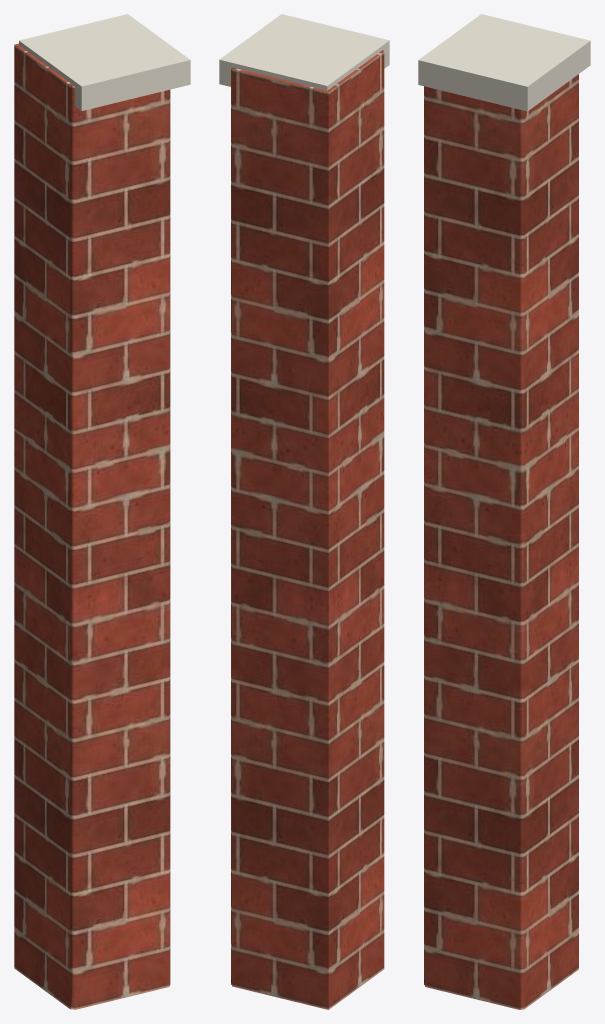
The model's file is corner_brick.glb.
3 views of the same model, side by side, from view 1: azimuth 30°, elevation 25°; view 2: azimuth 150°, elevation 25°; view 3: azimuth 330°, elevation 25° (orthographic).
Visible parts, largest first — view 1: corner_brick_brick, corner_brick_trim; view 2: corner_brick_brick, corner_brick_trim; view 3: corner_brick_brick, corner_brick_trim.
Part boxes in pixels (x1,y1,x2,y2): corner_brick_brick: (14, 43, 170, 1009); corner_brick_trim: (19, 14, 190, 110); corner_brick_brick: (231, 50, 384, 1009); corner_brick_trim: (219, 14, 389, 90); corner_brick_brick: (424, 74, 578, 1009); corner_brick_trim: (418, 14, 590, 111).
Bounding box in the file's own units: 0.38 × 3.02 × 0.38.
2 materials, 1 textured.
